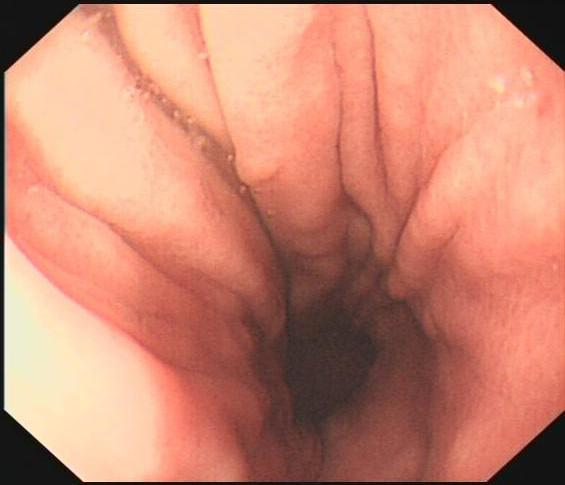Polyp: (233, 137, 286, 190)
